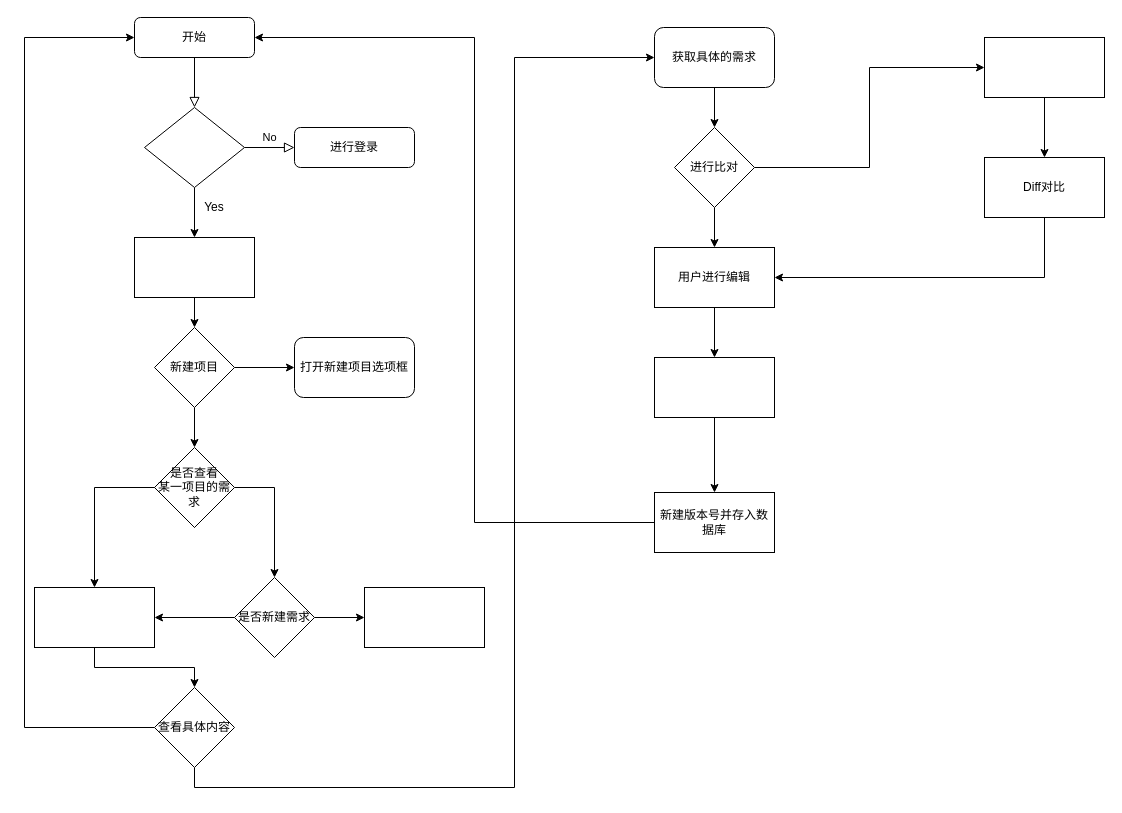
Image size: 1122x813. Some labels were removed from this diagram. Each missing label, with the centre of its shape:
保存: point 714,387
打开新建需求选项框: point 424,617
用户是否登陆: point 194,147
用户选择两个进行比对的版本: point 1044,67
获取该用户可访问的 项目列表: point 194,267
获取该项目的需求列表: point 94,617
